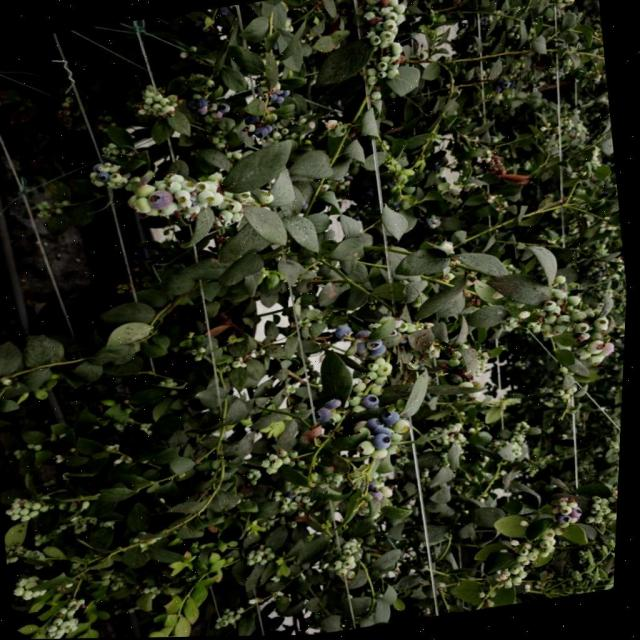RipeBlueBerry: (381, 410, 406, 429), (374, 433, 397, 453), (316, 408, 336, 427), (363, 394, 385, 411), (335, 325, 355, 341)
Semi-RipeBlueBerry: (146, 188, 177, 213)
UnripeBlueBerry: (588, 339, 610, 358), (132, 197, 152, 216), (378, 365, 396, 380)
